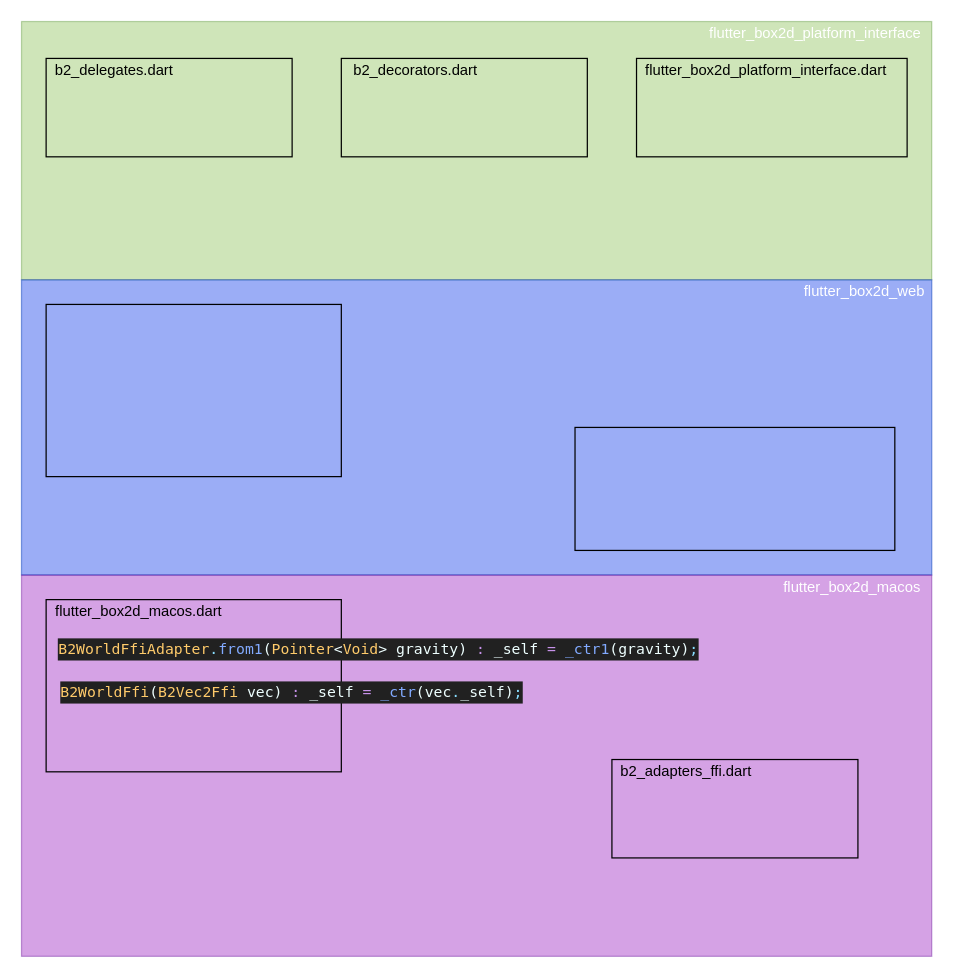
Some shapes in this 953 by 978 pixel diagram are drawn without their labels. The shapes that lost their labels are listed below. From the top down, each one's centre as x and y in pixels, then its label:
At [193,390]: "flutter_box2d_web.dart".
At [734,488]: "b2_adapters_web.dart".
